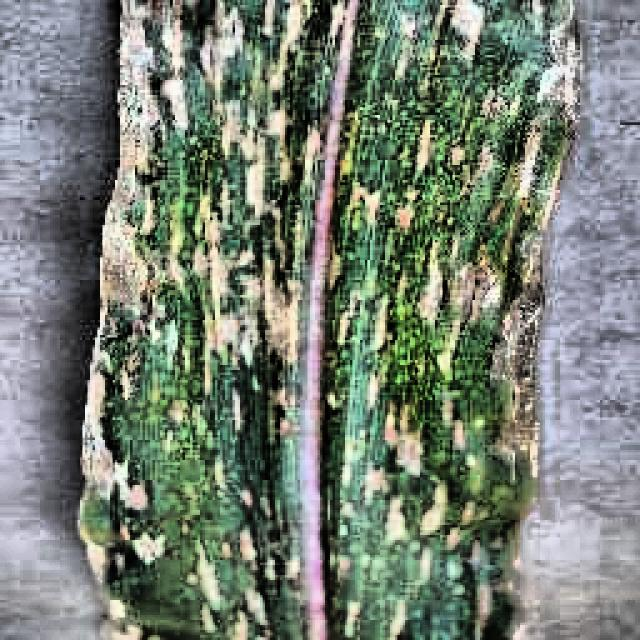gray_spot: (97, 0, 565, 640)
